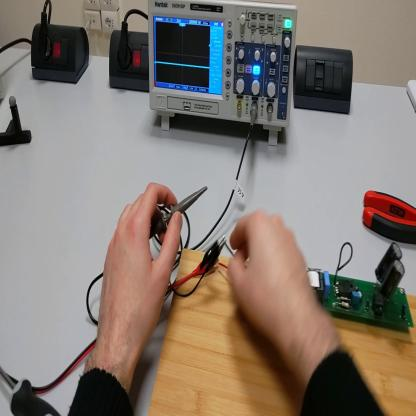hand: (95, 184, 183, 358), (228, 208, 319, 354)
high voltage board: (216, 242, 412, 328)
oscilloscope: (149, 3, 298, 148)
oscilloscope probe tip: (150, 187, 208, 242)
pliers: (362, 187, 416, 242)
screwdriver-: (1, 368, 62, 414)
socket: (29, 21, 91, 84), (109, 30, 148, 93)
working area: (147, 247, 416, 415)
